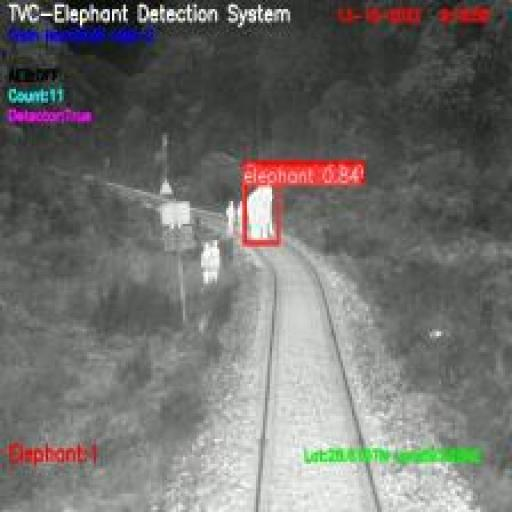Elephant: (242, 185, 278, 245)
